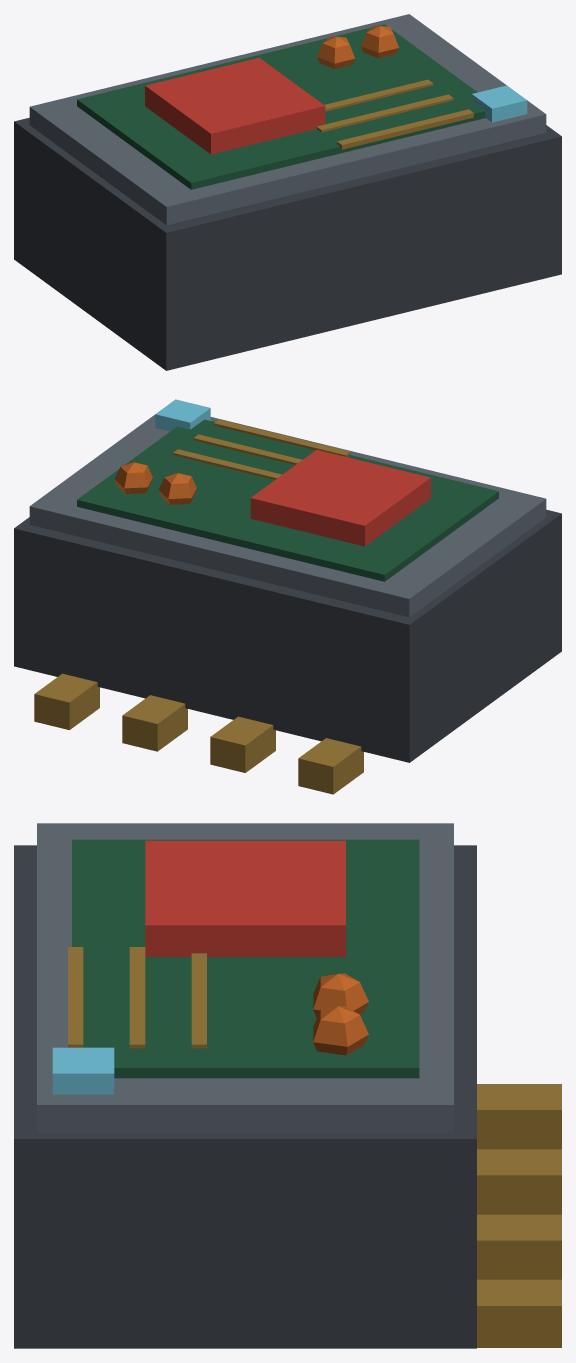
File: droid-fortitude-protocol-mk-2.glb
3 renders of one model, top to bottom at view 1: azimuth 30°, elevation 25°; view 2: azimuth 150°, elevation 25°; view 3: azimuth 270°, elevation 25°, orthographic. The views are drawn at different scales.
Visible parts, largest first — view 1: m; view 2: m; view 3: m.
Boxes of the visible parts, x1,y1,x2,y2 form: m: (14,14,561,370); m: (14,399,561,794); m: (14,823,561,1348).
Bounding box in the file's own units: 0.1 × 0.0511 × 0.0789.
